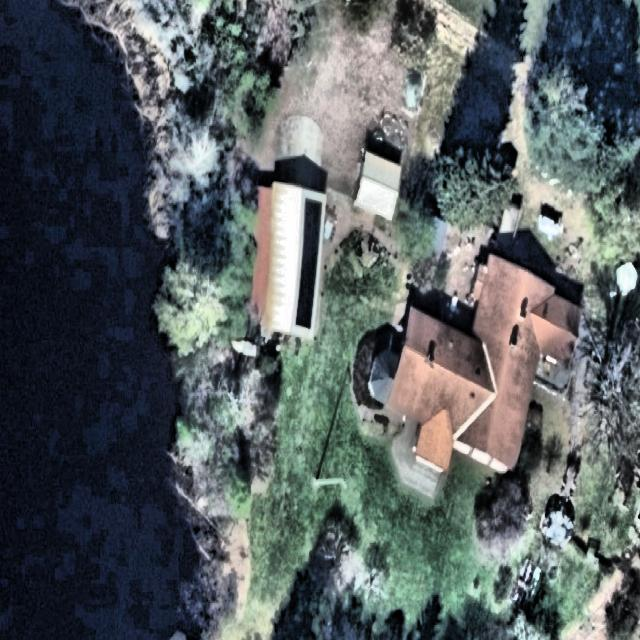roof_pv: (293, 193, 324, 341)
